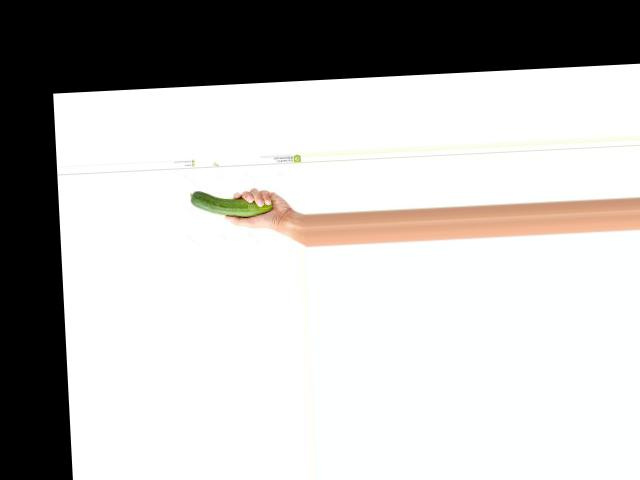cucumber: (189, 187, 272, 218)
